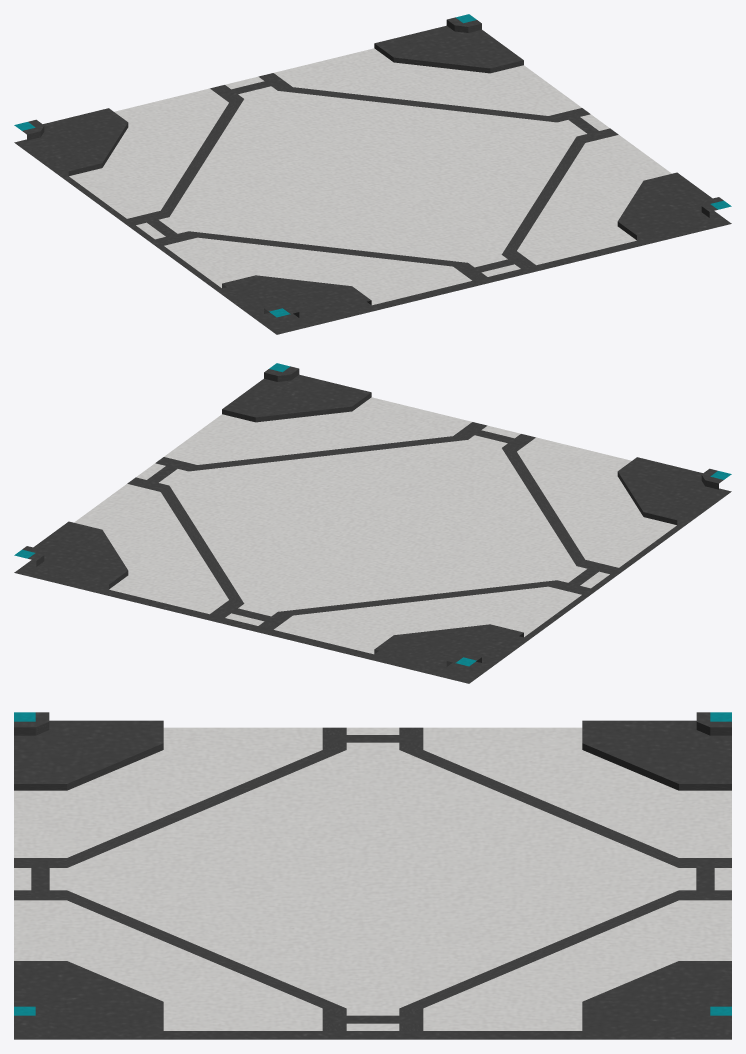
File: Floor_1_XShape_Blank_LOD1.fbx
3 views of the same model, one above another, from view 1: azimuth 30°, elevation 25°; view 2: azimuth 150°, elevation 25°; view 3: azimuth 270°, elevation 25° (orthographic). The views are drawn at different scales.
Visible parts, largest first — view 1: Floor_1_XShape_Blank_LOD1; view 2: Floor_1_XShape_Blank_LOD1; view 3: Floor_1_XShape_Blank_LOD1.
Part boxes in pixels (x1,y1,x2,y2): Floor_1_XShape_Blank_LOD1: (14, 14, 731, 334); Floor_1_XShape_Blank_LOD1: (14, 363, 731, 683); Floor_1_XShape_Blank_LOD1: (14, 712, 731, 1039).
Size of the model in its own units: 200 by 7.31 by 200.
